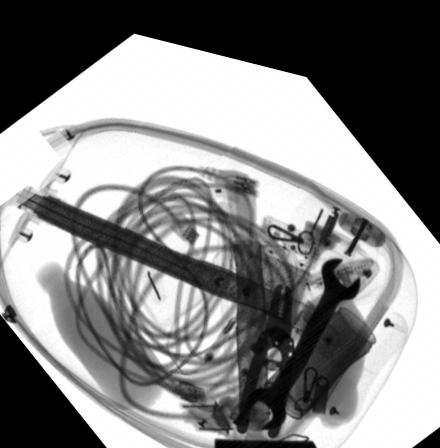Hammer: (214, 222, 320, 448)
Pliers: (235, 269, 293, 424)
Powerbank: (234, 201, 318, 324)
Wrench: (242, 239, 361, 416)
